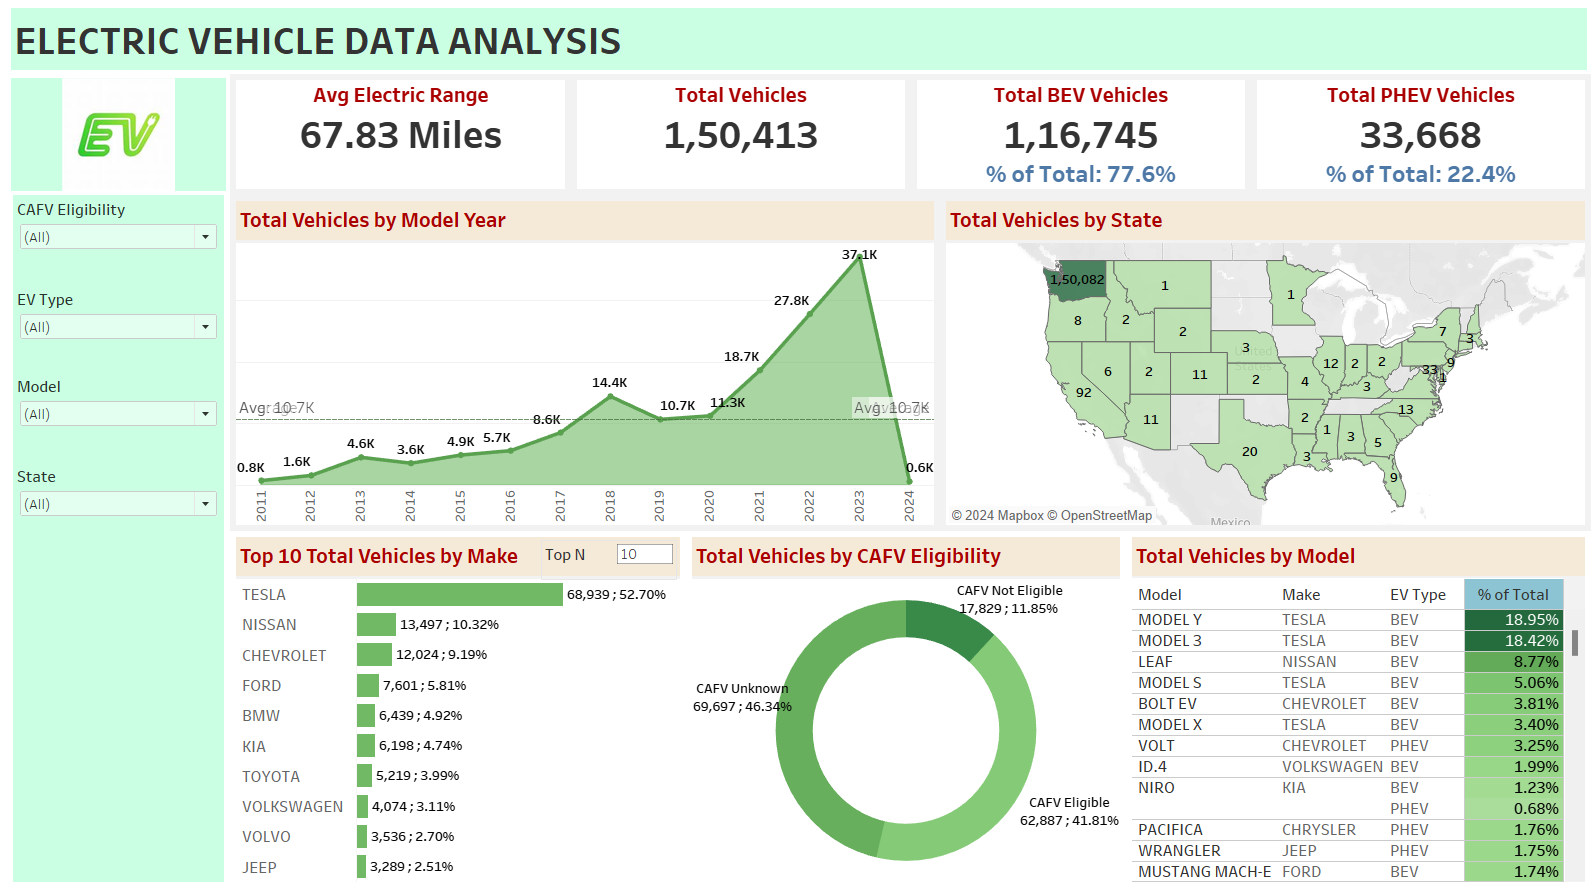

What the dashboard file says about the page in this screenshot:
{"tool":"tableau","page":{"name":"Dashboard 1","canvas":[1600,900],"ordinal":0},"visuals":[{"type":"title","box":[8,8,1584,70]},{"type":"image","param":"C:/Users/devis/Downloads/ev.jpg","box":[8,78,223,121]},{"type":"worksheet","title":"Avg Electric Range","mark":"Automatic","box":[231,78,341,121]},{"type":"worksheet","title":"Total Vehicles","mark":"Automatic","box":[572,78,340,121]},{"type":"worksheet","title":"Total BEV Vehicles","mark":"Automatic","box":[912,78,340,121]},{"type":"worksheet","title":"Total PHEV Vehicles","mark":"Automatic","box":[1252,78,340,121]},{"type":"filter","title":"Total Vehicles by Model Year","param":"[federated.12hmpti16mreuk0zjmugv1827yz3].[none:Clean Alternative Fuel Vehicle (C","box":[14,199,211,90]},{"type":"worksheet","title":"Total Vehicles by Model Year","mark":"Area","rows":["Calculation_898468157853995008","Calculation_898468157853995008"],"cols":["Model Year"],"box":[231,199,710,336]},{"type":"worksheet","title":"Total Vehicles by State","mark":"Multipolygon","box":[941,199,651,336]},{"type":"filter","title":"Total Vehicles by Model Year","param":"[federated.12hmpti16mreuk0zjmugv1827yz3].[none:Electric Vehicle Type:nk]","box":[14,289,211,87]},{"type":"filter","title":"Total Vehicles by Model Year","param":"[federated.12hmpti16mreuk0zjmugv1827yz3].[none:Model:nk]","box":[14,376,211,90]},{"type":"filter","title":"Total Vehicles by Model Year","param":"[federated.12hmpti16mreuk0zjmugv1827yz3].[none:State:nk]","box":[14,466,211,61]},{"type":"worksheet","title":"Top 10 Total Vehicles by Make","mark":"Automatic","rows":["Make"],"cols":["Calculation_898468157853995008"],"box":[231,535,456,357]},{"type":"worksheet","title":"Total Vehicles by CAFV Eligibility","mark":"Pie","rows":["Calculation_898468157891584007","Calculation_898468157891584007"],"box":[687,535,440,357]},{"type":"worksheet","title":"Total Vehicles by Model","mark":"Square","rows":["Model","Make","Electric Vehicle Type"],"box":[1127,535,465,357]},{"type":"parameter","param":"[Parameters].[Parameter 1]","box":[542,544,136,40]}]}

Visuals, with their boxes in screenshot pixels (x1, y1, x2, y2), scaled from the page's 1600x900 canvas onto the 1593x888 screenshot:
title: 8,8,1585,77
image: 8,77,230,196
"Avg Electric Range" worksheet: 230,77,569,196
"Total Vehicles" worksheet: 569,77,908,196
"Total BEV Vehicles" worksheet: 908,77,1247,196
"Total PHEV Vehicles" worksheet: 1247,77,1585,196
"Total Vehicles by Model Year" filter: 14,196,224,285
"Total Vehicles by Model Year" worksheet (Area marks): 230,196,937,528
"Total Vehicles by State" worksheet (Multipolygon marks): 937,196,1585,528
"Total Vehicles by Model Year" filter: 14,285,224,371
"Total Vehicles by Model Year" filter: 14,371,224,460
"Total Vehicles by Model Year" filter: 14,460,224,520
"Top 10 Total Vehicles by Make" worksheet: 230,528,684,880
"Total Vehicles by CAFV Eligibility" worksheet (Pie marks): 684,528,1122,880
"Total Vehicles by Model" worksheet (Square marks): 1122,528,1585,880
parameter: 540,537,675,576
